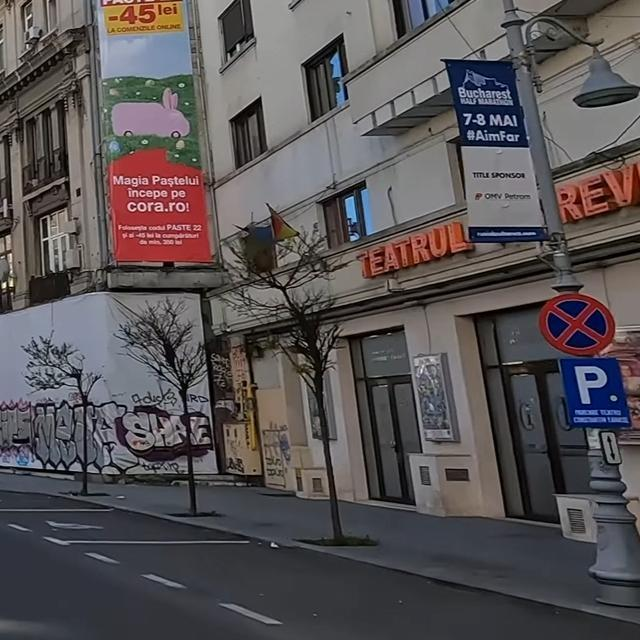forb_waiting: (538, 291, 616, 356)
